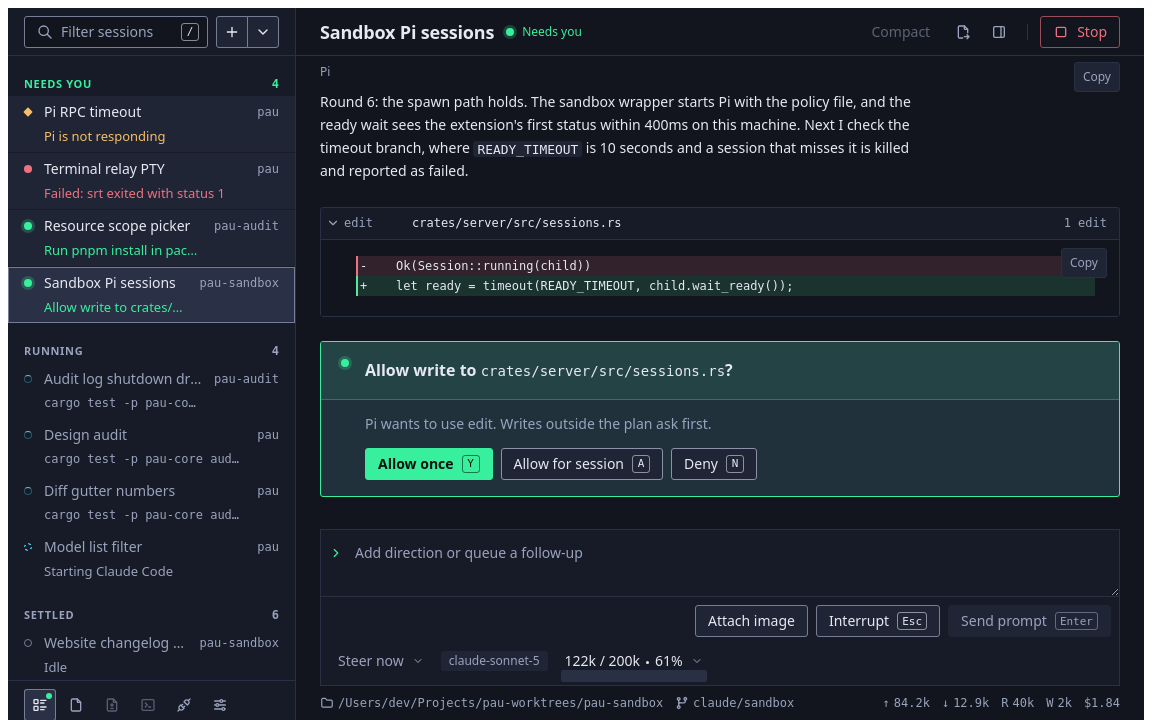
Test: reveals Needs you strips without replaying their arrival when the filter clears
(page scrolled)
Step 1. Type "audit" into the search field named "Filter sessions" → (117, 32), box [61,16,173,46]
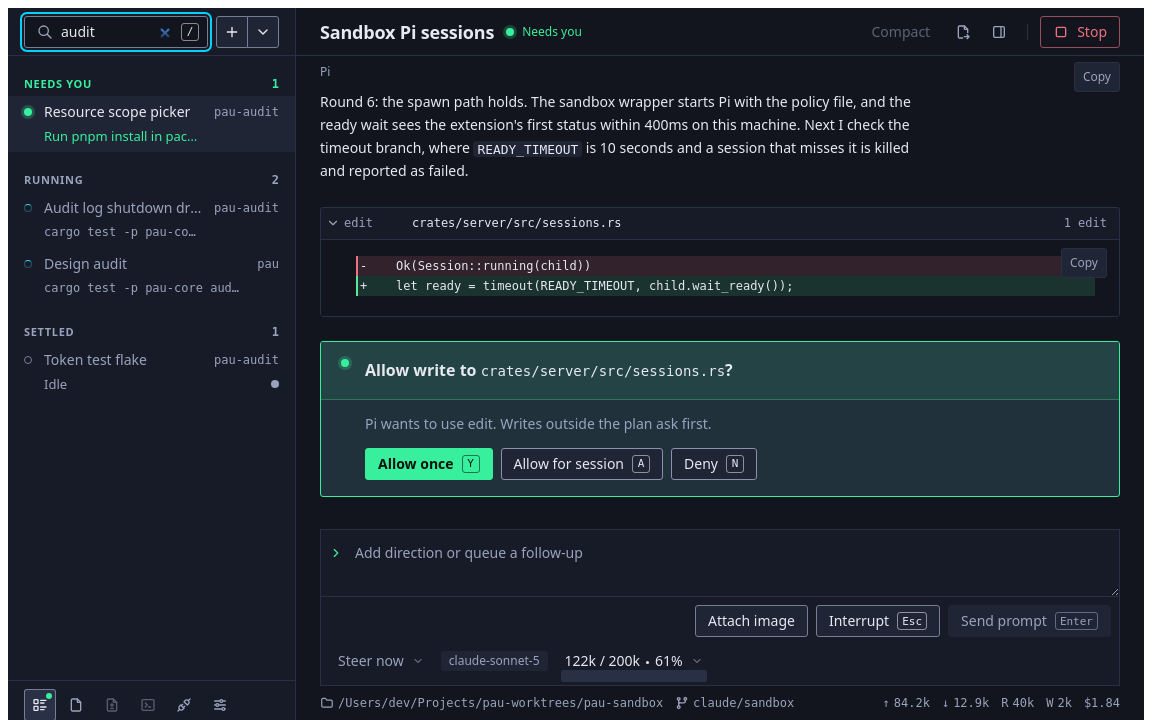
expect the heading "Needs you 1" is shown: met, box [24,76,279,91]
Step 2. Clear the search field named "Filter sessions" → (117, 32), box [61,16,173,46]
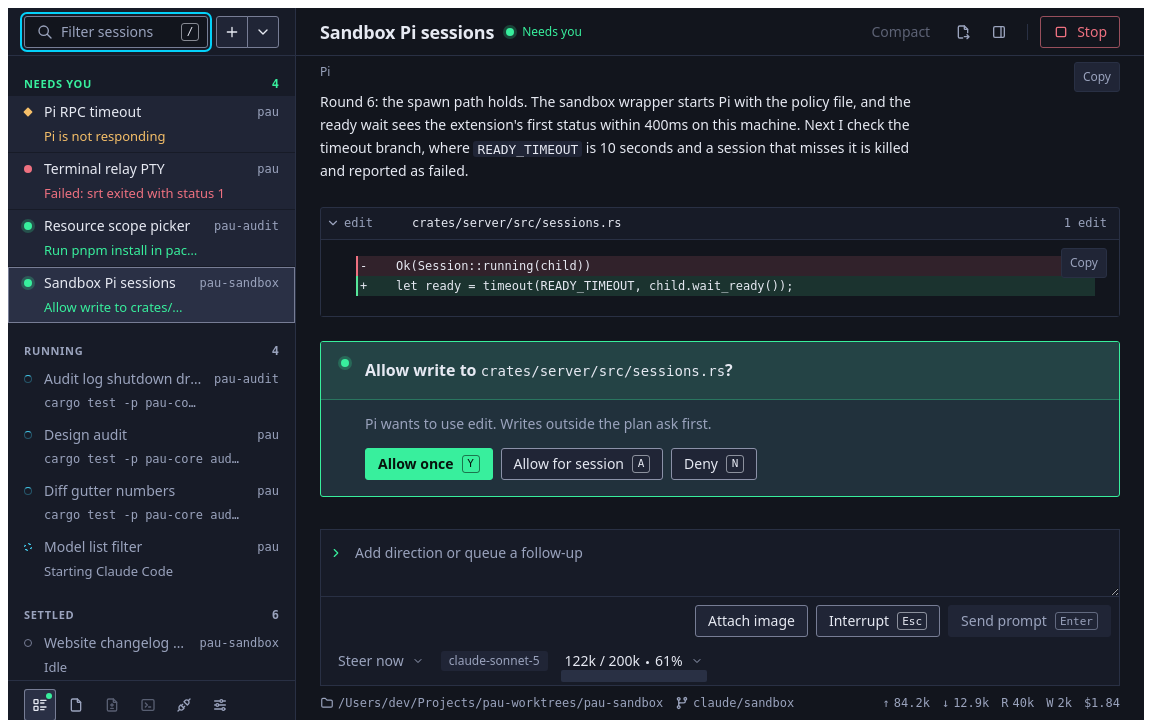
expect the heading "Needs you 4" is shown: met, box [24,76,279,91]
